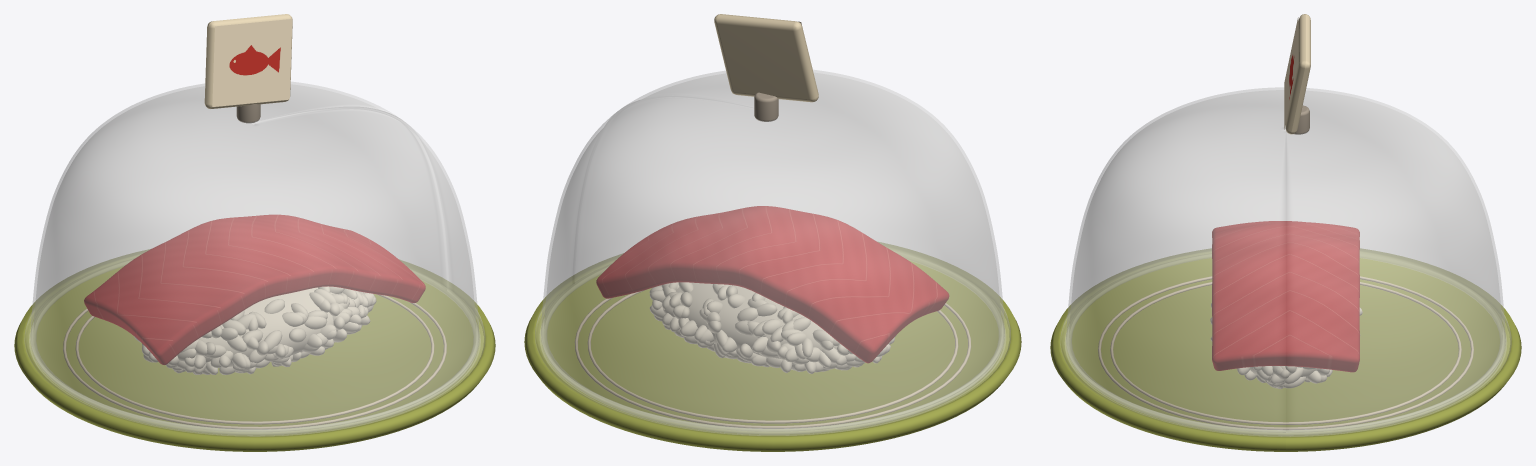
Rendered from tuna-nigiri.glb.
The picture shows the model from 3 angles, left to right: view 1: azimuth 30°, elevation 25°; view 2: azimuth 150°, elevation 25°; view 3: azimuth 270°, elevation 25°; orthographic projection. The views are drawn at different scales.
Visible parts, largest first — view 1: tuna · GLASS cloche, tuna · lacquer plate, tuna · curved fish fillet, tuna · sculpted individual rice grains, tuna · painted sign face, tuna · GLASS molded foot, tuna · glass lower rolled rim, tuna · rice body, tuna · plate rim, tuna · inset glaze line.001, tuna · inset glaze line, tuna · sign porcelain; view 2: tuna · GLASS cloche, tuna · lacquer plate, tuna · curved fish fillet, tuna · sculpted individual rice grains, tuna · sign porcelain, tuna · GLASS molded foot, tuna · glass lower rolled rim, tuna · rice body, tuna · plate rim, tuna · inset glaze line.001, tuna · inset glaze line, tuna · sign clip; view 3: tuna · GLASS cloche, tuna · lacquer plate, tuna · curved fish fillet, tuna · GLASS molded foot, tuna · glass lower rolled rim, tuna · plate rim, tuna · inset glaze line.001, tuna · inset glaze line, tuna · sign porcelain, tuna · sculpted individual rice grains, tuna · painted sign face.
Part boxes in pixels (x1,y1,x2,y2): tuna · GLASS cloche: (31,82,478,431); tuna · lacquer plate: (14,249,495,451); tuna · curved fish fillet: (84,214,425,364); tuna · sculpted individual rice grains: (134,286,376,374); tuna · painted sign face: (212,19,292,106); tuna · GLASS molded foot: (24,308,485,436); tuna · glass lower rolled rim: (30,259,479,435); tuna · rice body: (196,287,343,366); tuna · plate rim: (22,253,487,437); tuna · inset glaze line.001: (63,302,446,429); tuna · inset glaze line: (75,294,434,424); tuna · sign porcelain: (204,14,292,108); tuna · GLASS cloche: (541,70,1004,431); tuna · lacquer plate: (524,242,1021,451); tuna · curved fish fillet: (596,206,949,363); tuna · sculpted individual rice grains: (649,282,896,373); tuna · sign porcelain: (714,14,818,102); tuna · GLASS molded foot: (535,303,1010,435); tuna · glass lower rolled rim: (541,252,1004,434); tuna · rice body: (676,282,837,358); tuna · plate rim: (532,246,1013,437); tuna · inset glaze line.001: (574,298,971,428); tuna · inset glaze line: (587,290,958,423); tuna · sign clip: (754,92,778,121); tuna · GLASS cloche: (1066,87,1505,432); tuna · lacquer plate: (1050,248,1521,451); tuna · curved fish fillet: (1212,221,1359,372); tuna · GLASS molded foot: (1060,312,1511,436); tuna · glass lower rolled rim: (1066,254,1505,435); tuna · plate rim: (1057,251,1514,438); tuna · inset glaze line.001: (1098,276,1473,429); tuna · inset glaze line: (1110,282,1461,424); tuna · sign porcelain: (1285,14,1310,134); tuna · sculpted individual rice grains: (1210,303,1362,388); tuna · painted sign face: (1284,17,1298,129).
Size of the model in its own units: 3.84 by 3.12 by 3.84.
Materials: 7 (2 with a texture image).
